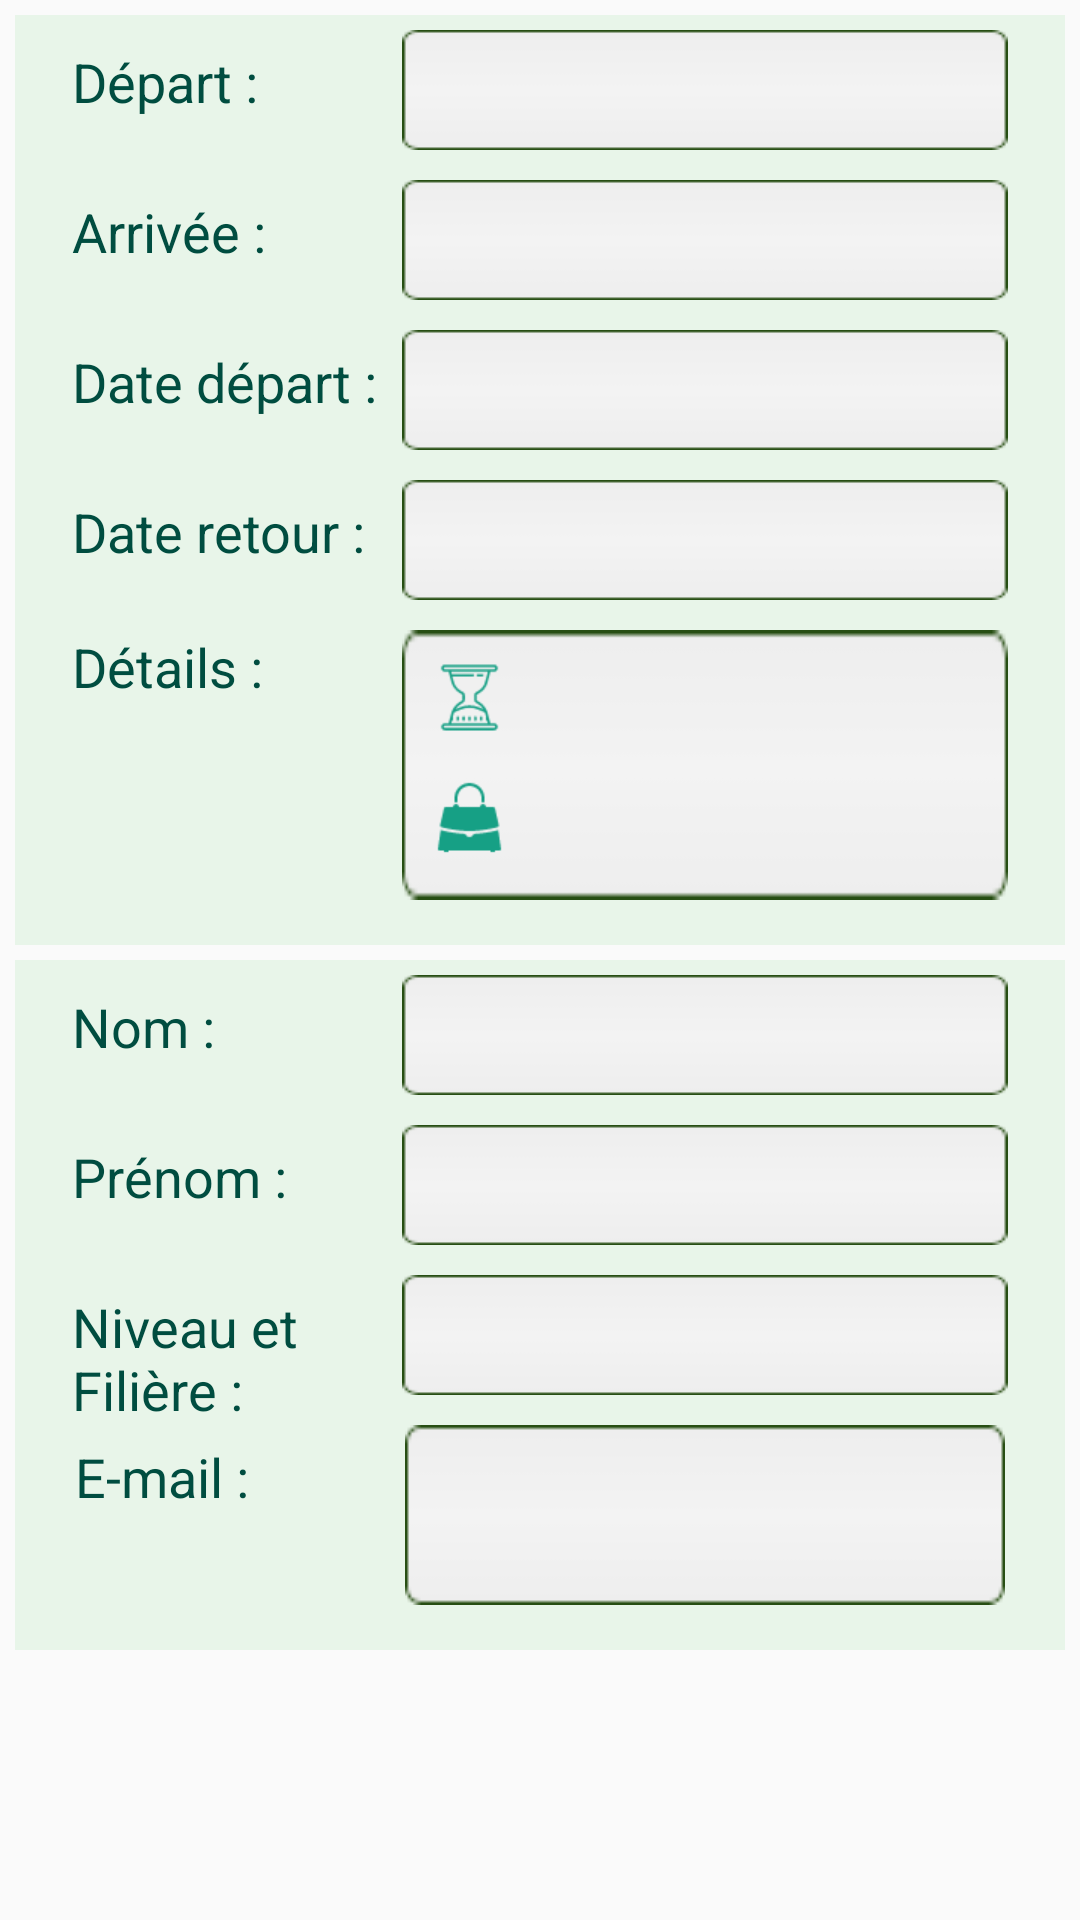

Where icons sit on this 1080×1920 app screen, as bbox(x1, y1, x2, y2):
bag: bbox(437, 782, 502, 853)
retard: bbox(440, 664, 499, 731)
